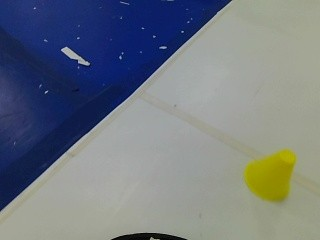cone: (243, 141, 298, 204)
